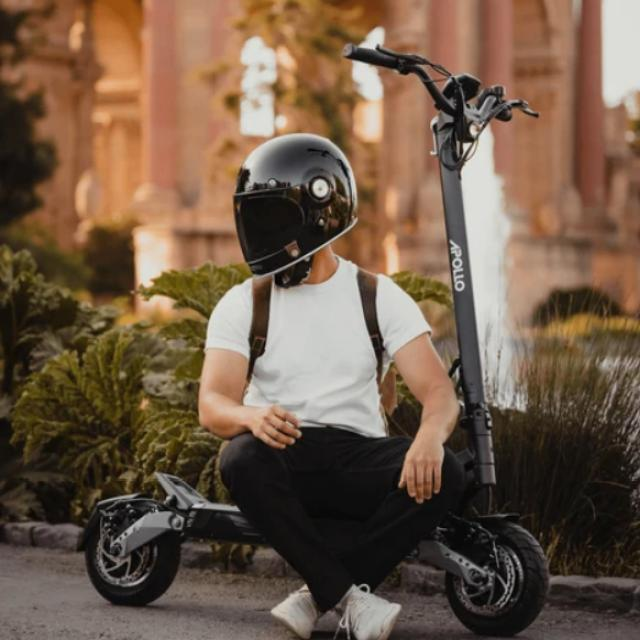helmet: (66, 7, 588, 636)
